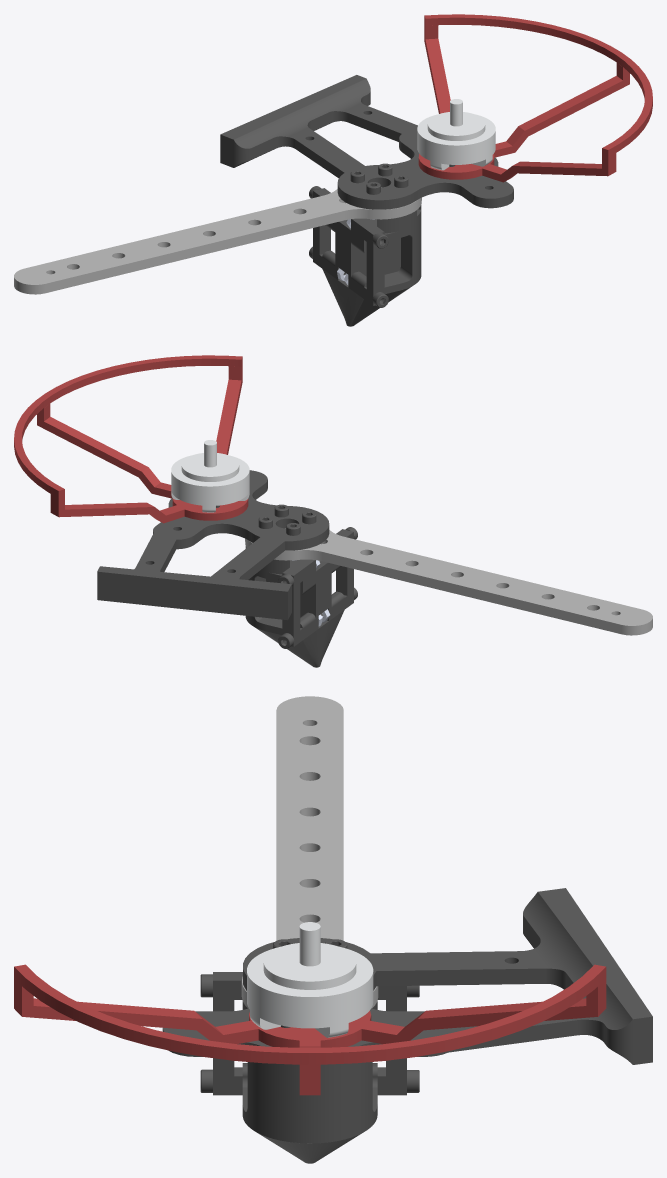
File: kinikun_foot_L.dae
The picture shows the model from 3 angles, top to bottom: view 1: azimuth 30°, elevation 25°; view 2: azimuth 150°, elevation 25°; view 3: azimuth 270°, elevation 25°; orthographic projection. The views are drawn at different scales.
Parts seen in each view (by area): view 1: Shape_IndexedFaceSet; view 2: Shape_IndexedFaceSet; view 3: Shape_IndexedFaceSet.
Part boxes in pixels (<box>): Shape_IndexedFaceSet: <box>14,14,652,326</box>; Shape_IndexedFaceSet: <box>14,355,652,667</box>; Shape_IndexedFaceSet: <box>14,696,652,1163</box>.
Bounding box in the file's own units: 0.269 × 0.1516 × 0.085.
